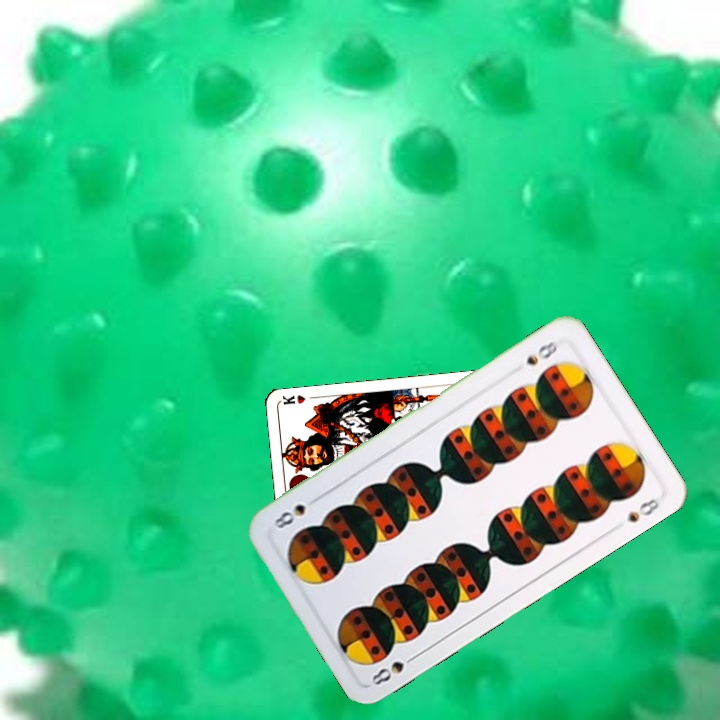S8: (367, 650, 421, 688), (521, 337, 560, 368)
